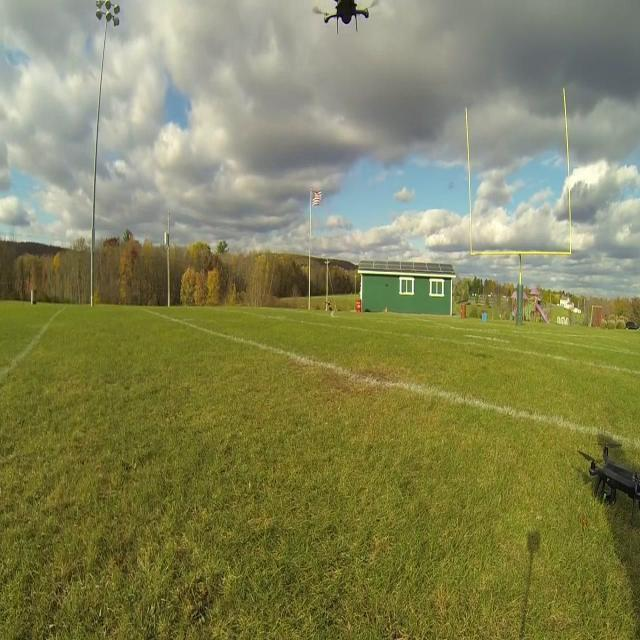UAV: (577, 444, 640, 526), (312, 0, 380, 35)
